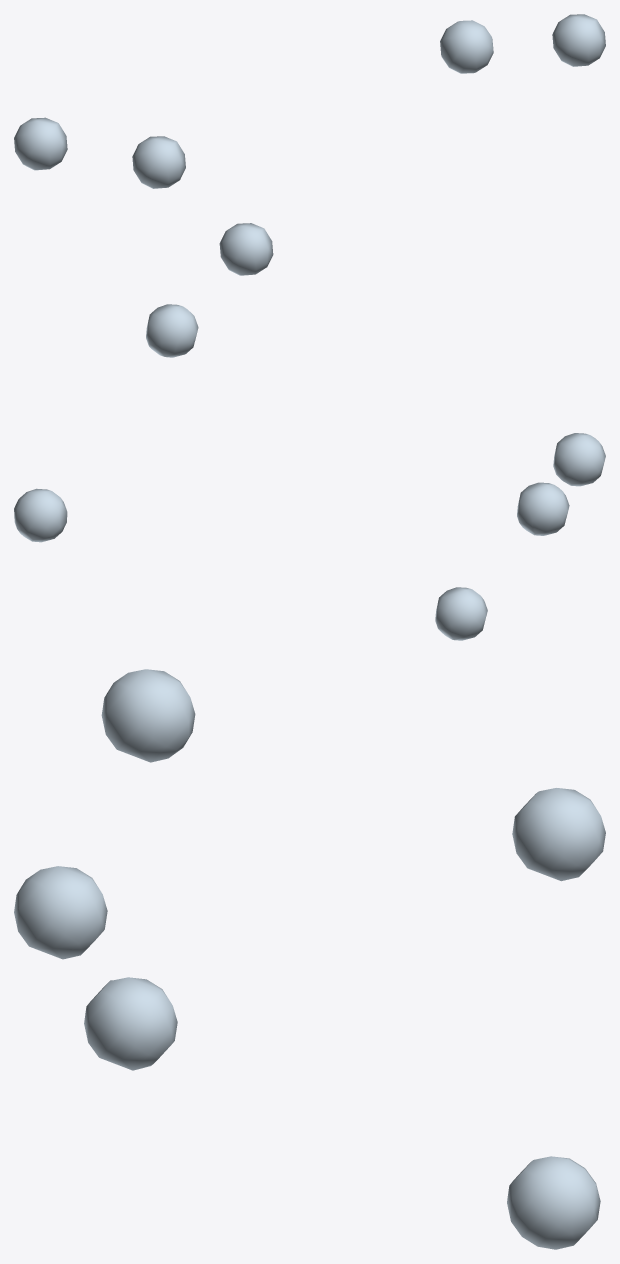
The model's file is linfatico-superior-tracheobronchial-nodes.glb.
3 renders of one model, top to bottom at view 1: azimuth 30°, elevation 25°; view 2: azimuth 150°, elevation 25°; view 3: azimuth 270°, elevation 25°, orthographic. The views are drawn at different scales.
Visible parts, largest first — view 1: Superior tracheobronchial nodes; view 2: Superior tracheobronchial nodes; view 3: Superior tracheobronchial nodes.
Boxes of the visible parts, box(x1,y1,x2,y2) form: Superior tracheobronchial nodes: box(14, 14, 605, 275); Superior tracheobronchial nodes: box(14, 304, 605, 640); Superior tracheobronchial nodes: box(14, 669, 605, 1249).
Bounding box in the file's own units: 0.0257 × 0.00816 × 0.0161.
